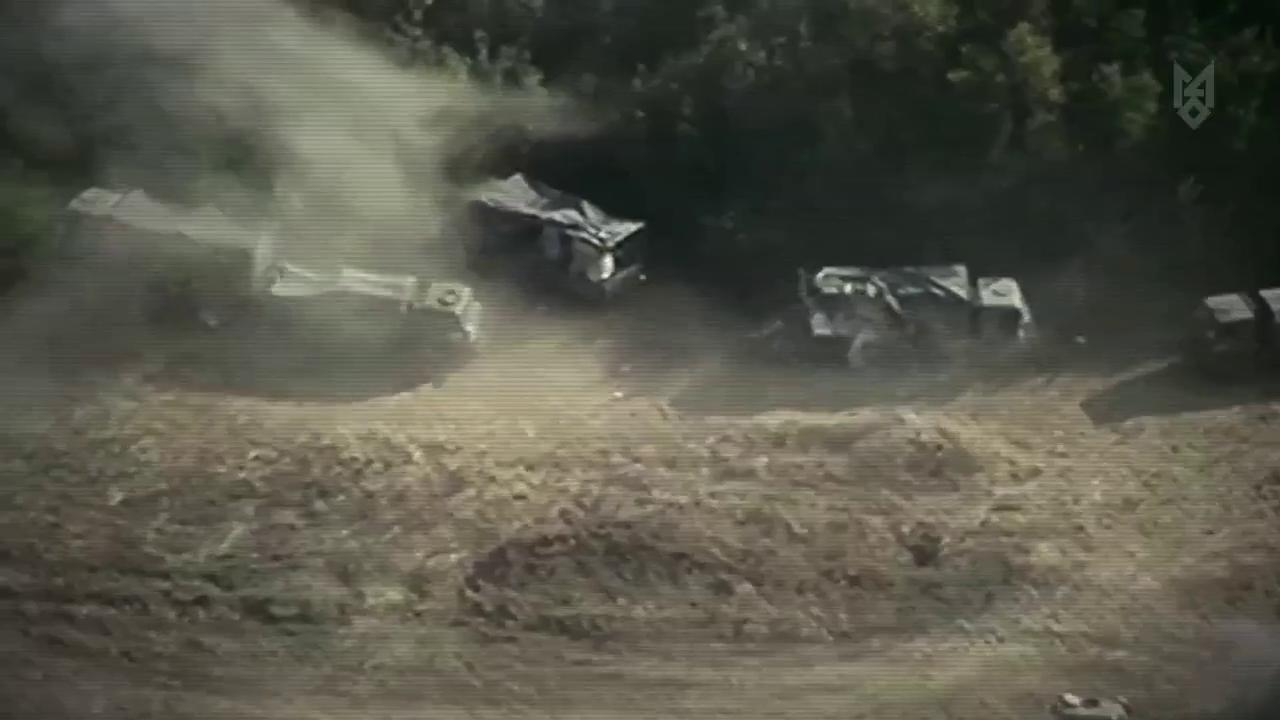tank: (42, 187, 275, 343), (267, 248, 491, 386), (443, 167, 648, 310), (755, 270, 1033, 373), (1202, 277, 1280, 379)
